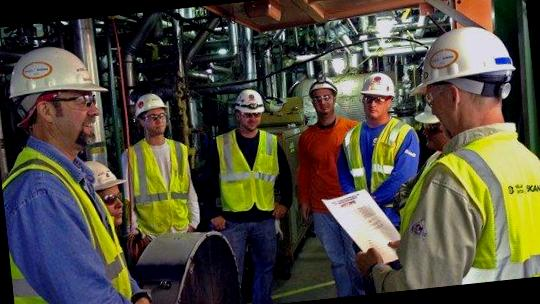helmet: (396, 14, 520, 105), (0, 42, 107, 111), (223, 82, 268, 122), (356, 71, 400, 108), (130, 90, 170, 122), (306, 70, 339, 98)
no_vest: (285, 120, 364, 212)
person: (384, 33, 540, 286), (0, 41, 128, 304), (198, 83, 312, 298), (292, 70, 386, 296), (332, 66, 426, 223), (119, 82, 205, 231)
